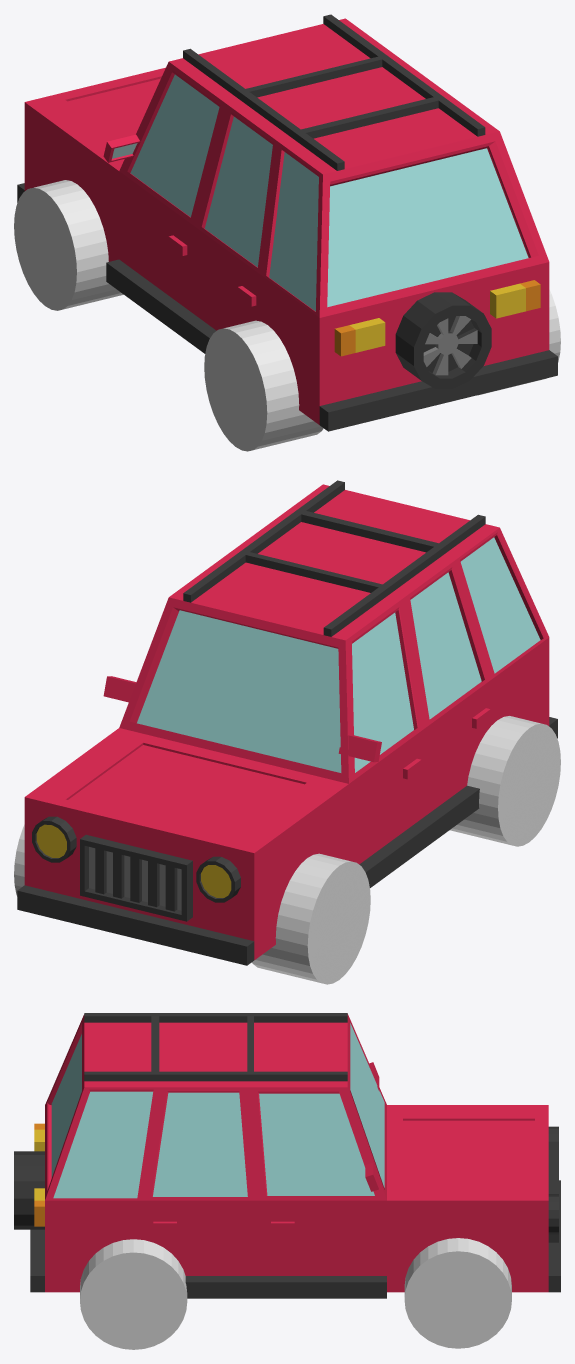
Rendered from range_rover_ish.fbx.
3 renders of one model, top to bottom at view 1: azimuth 30°, elevation 25°; view 2: azimuth 150°, elevation 25°; view 3: azimuth 270°, elevation 25°, orthographic. The views are drawn at different scales.
Visible parts, largest first — view 1: Cube, Cylinder.001, Cylinder, Cylinder.005, Cube.001, Cube.003; view 2: Cube, Cylinder, Cylinder.001, Cube.002, Cylinder.004, Cube.003; view 3: Cube, Cylinder, Cylinder.001, Cylinder.005, Cube.001, Cylinder.004, Cube.002, Cube.003.
Boxes of the visible parts, x1,y1,x2,y2 form: Cube: (17,14,557,431); Cylinder.001: (204,289,560,451); Cylinder: (14,180,123,310); Cylinder.005: (395,292,491,388); Cube.001: (334,280,540,356); Cube.003: (103,134,139,162); Cube: (17,480,557,965); Cylinder: (14,824,370,984); Cylinder.001: (450,716,560,846); Cube.002: (80,834,192,921); Cylinder.004: (32,816,240,902); Cube.003: (103,676,381,762); Cube: (30,1013,560,1298); Cylinder: (404,1238,511,1348); Cylinder.001: (80,1239,187,1349); Cylinder.005: (14,1151,44,1229); Cube.001: (34,1123,44,1226); Cylinder.004: (548,1126,558,1234); Cube.002: (548,1150,558,1242); Cube.003: (365,1062,379,1191).
Bounding box in the file's own units: 255 × 238 × 483.
